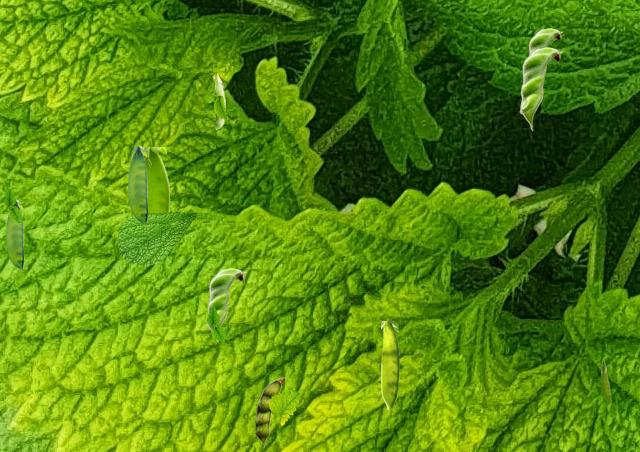pea: (519, 47, 562, 130), (206, 268, 245, 342), (255, 377, 284, 447), (143, 147, 168, 212), (528, 28, 562, 74), (381, 321, 398, 409), (128, 146, 146, 225), (6, 200, 22, 270), (212, 72, 224, 128), (601, 361, 610, 404)
